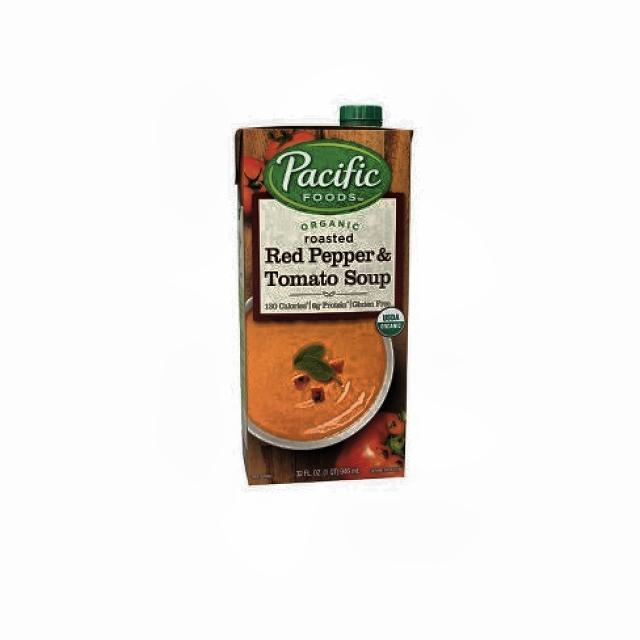cardboard: (233, 120, 412, 484)
